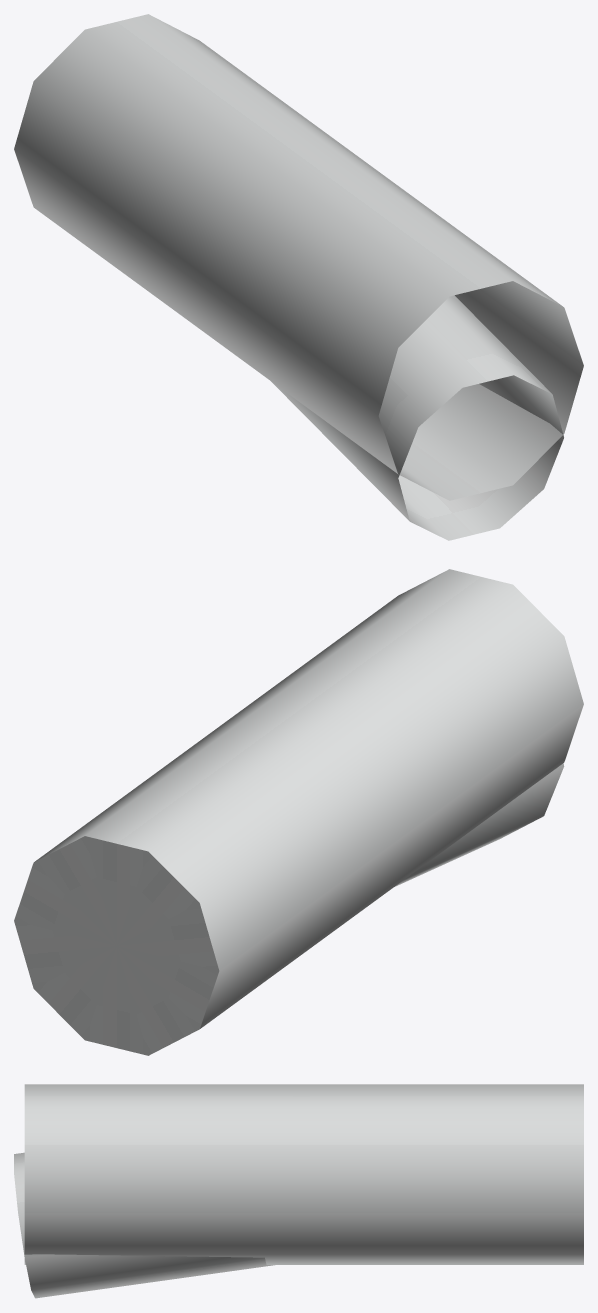
The model's file is trusssignalarm_level8_c12.obj.
The picture shows the model from 3 angles, top to bottom: view 1: azimuth 30°, elevation 25°; view 2: azimuth 150°, elevation 25°; view 3: azimuth 270°, elevation 25°; orthographic projection. The views are drawn at different scales.
Parts seen in each view (by area): view 1: trusssignalarm_level8_c12; view 2: trusssignalarm_level8_c12; view 3: trusssignalarm_level8_c12.
Boxes of the visible parts, x1,y1,x2,y2 form: trusssignalarm_level8_c12: (14, 14, 583, 540); trusssignalarm_level8_c12: (14, 569, 583, 1055); trusssignalarm_level8_c12: (14, 1084, 583, 1298).
Size of the model in its own units: 0.325 by 0.3795 by 1.02.
